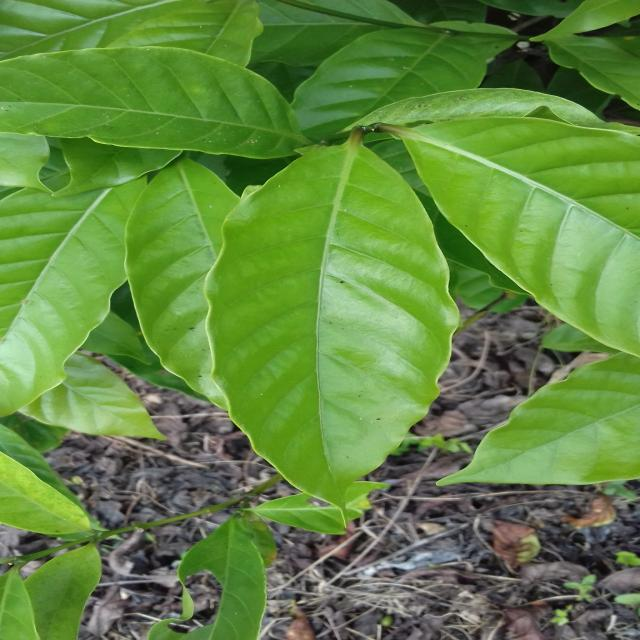Sanas: (191, 135, 462, 510)
